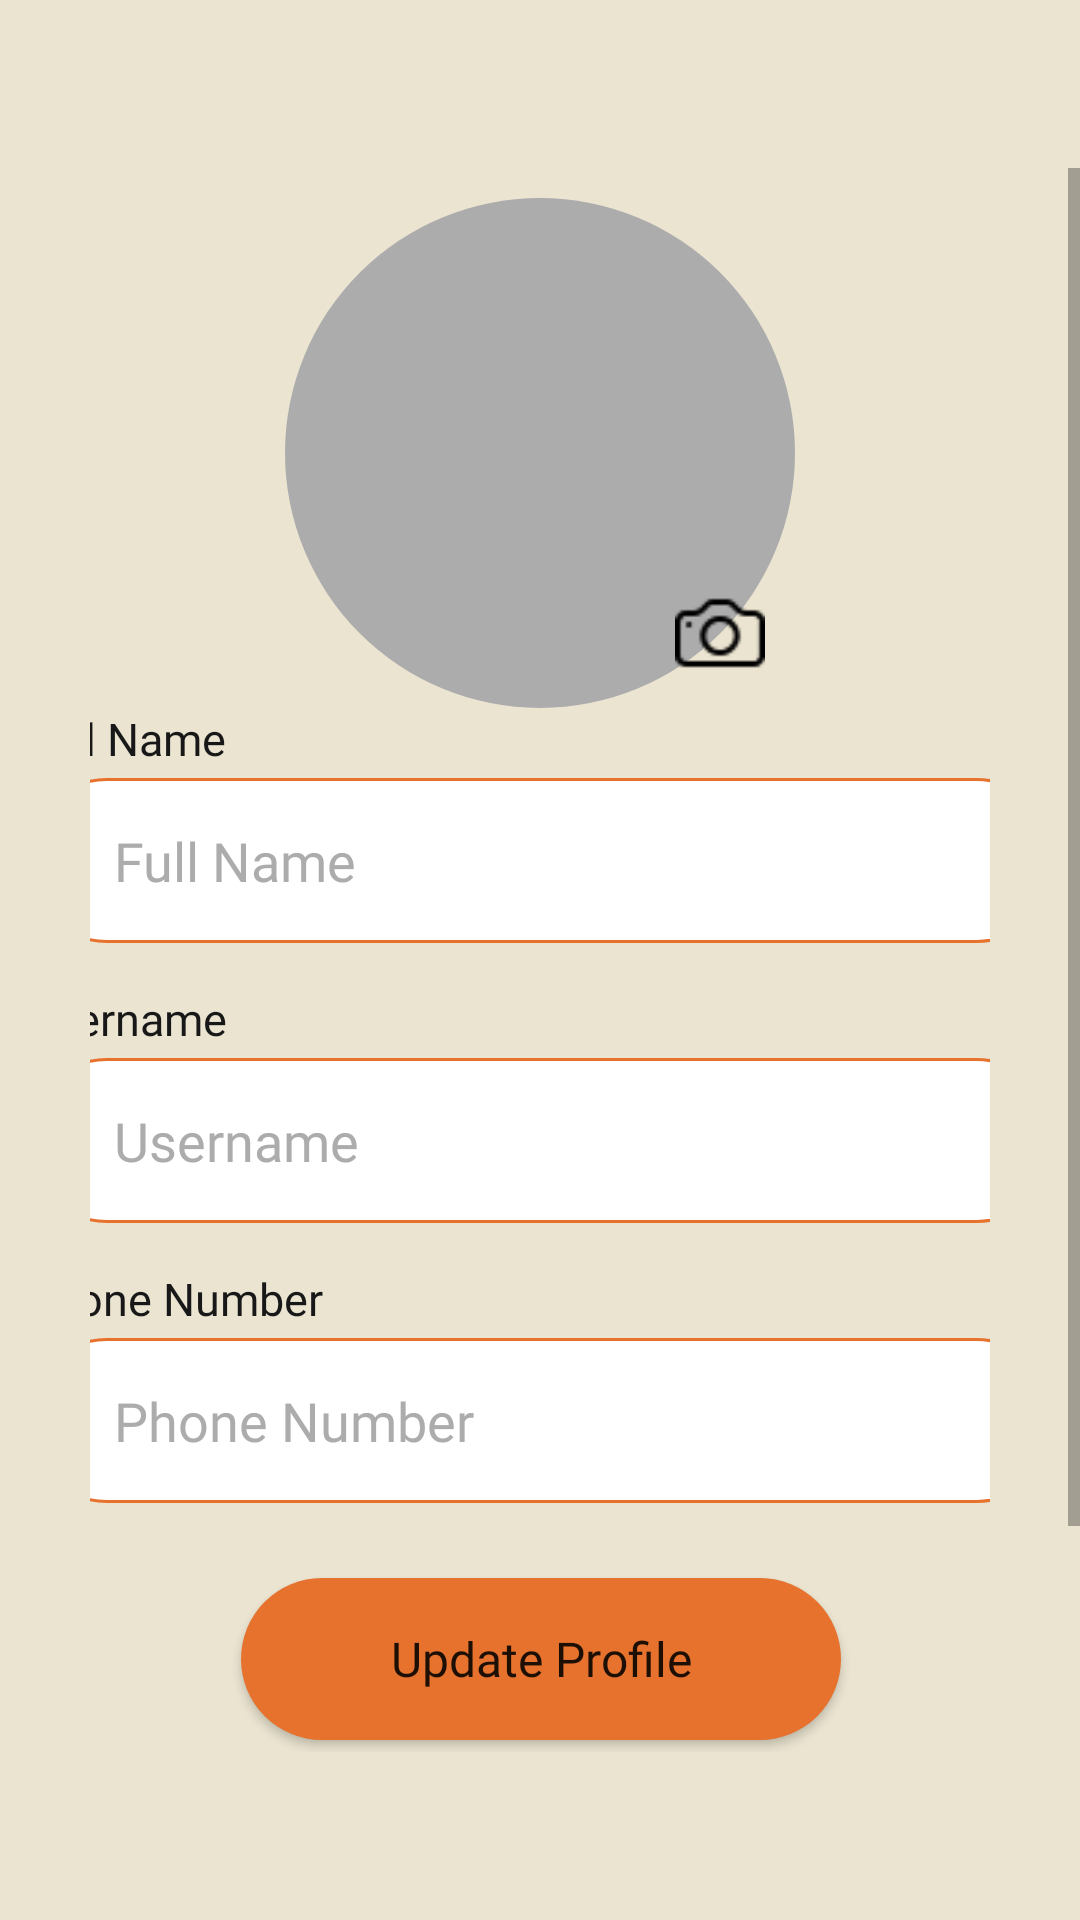

Named icons in this screenshot (1080 x 1920) and their centers, (x=x, y=y):
camera: (x=720, y=633)
